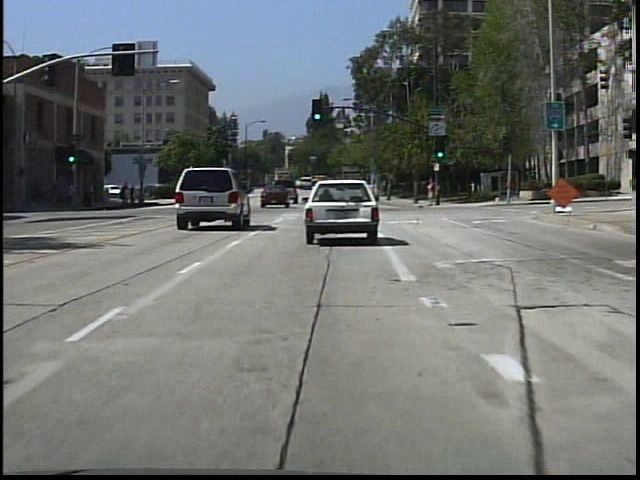person: (421, 174, 437, 209), (118, 178, 132, 205)
